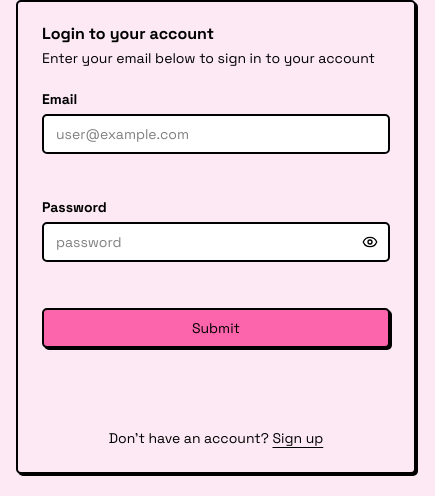
Scenario: SignInForm › password should contain at least one digit (0-9)
Step 1. Type "Popique the cat" into the password field with test id "password-input" → (216, 242), box [42,222,390,262]
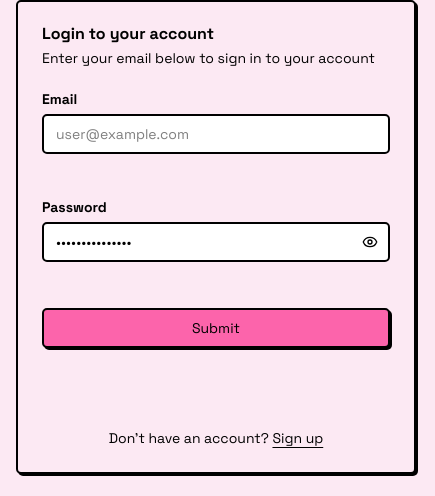
Step 2. Click the button "Submit" → (216, 328), box [42,308,390,348]
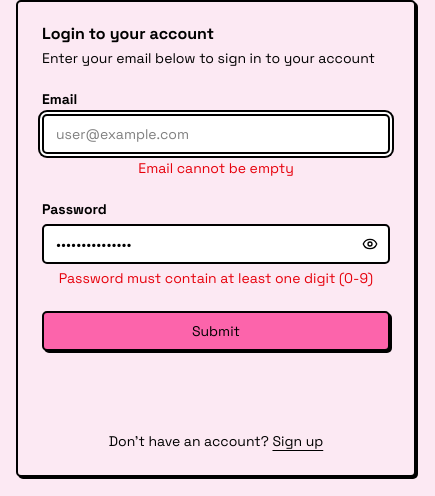
Check: the text "Password must contain at least one digit (0-9)" is shown, box [59,270,373,287]
